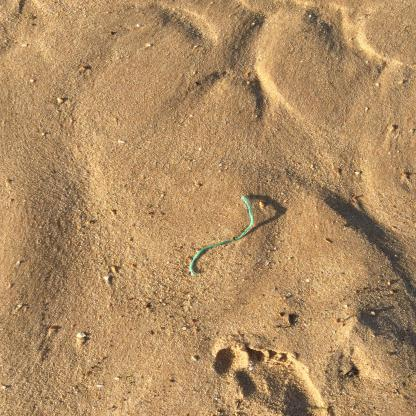diger: (188, 196, 254, 276)
